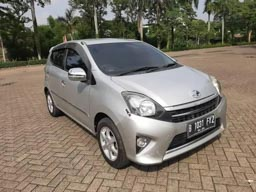plat: (189, 109, 221, 138)
